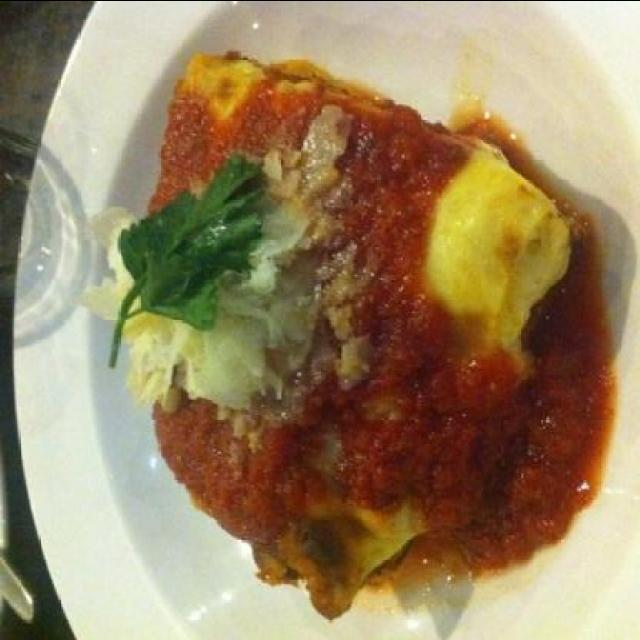Lasagna: (88, 25, 590, 623)
